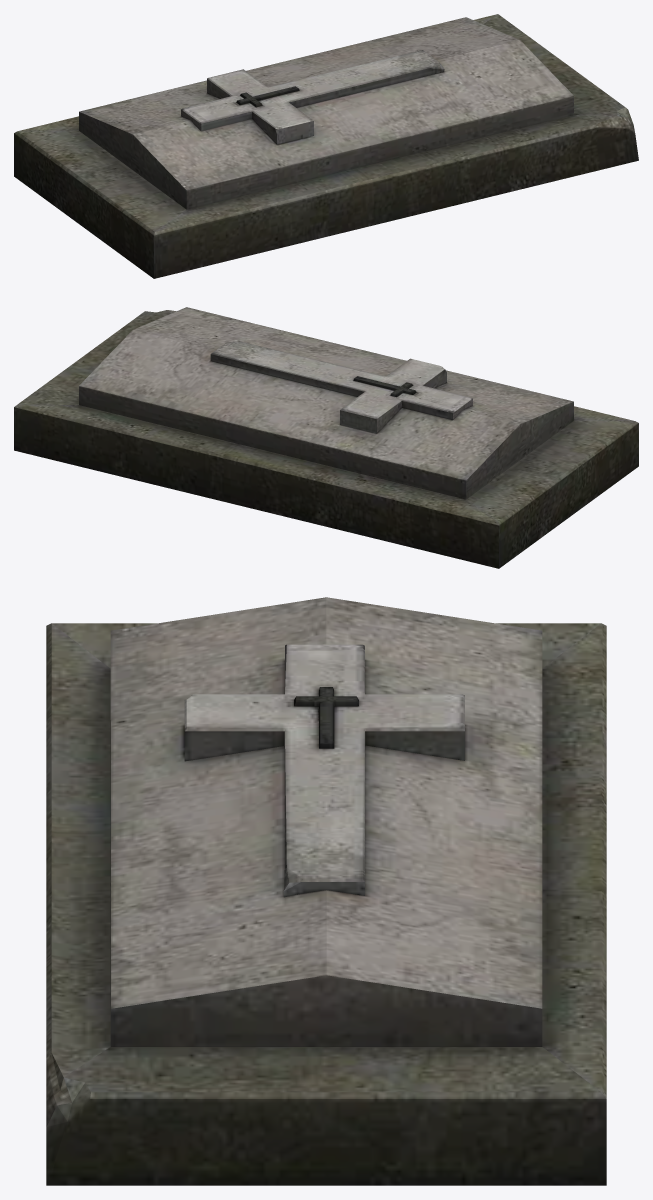
File: gravestone_coffinpiece001a.glb
3 renders of one model, top to bottom at view 1: azimuth 30°, elevation 25°; view 2: azimuth 150°, elevation 25°; view 3: azimuth 270°, elevation 25°, orthographic. The views are drawn at different scales.
Parts seen in each view (by area): view 1: 0_gravestones003a; view 2: 0_gravestones003a; view 3: 0_gravestones003a.
Boxes of the visible parts, left/top/right/bottom form: 0_gravestones003a: left=14, top=14, right=638, bottom=278; 0_gravestones003a: left=14, top=307, right=638, bottom=568; 0_gravestones003a: left=46, top=597, right=606, bottom=1185.
Size of the model in its own units: 2.84 by 0.4948 by 1.42.
Materials: 1 (1 with a texture image).
